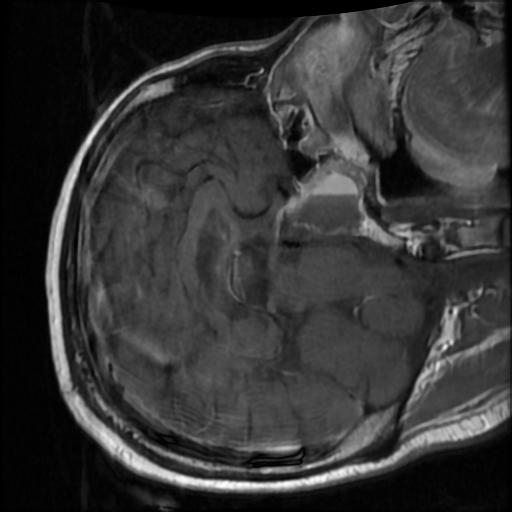pituitary tumour: (275, 165, 365, 239)
